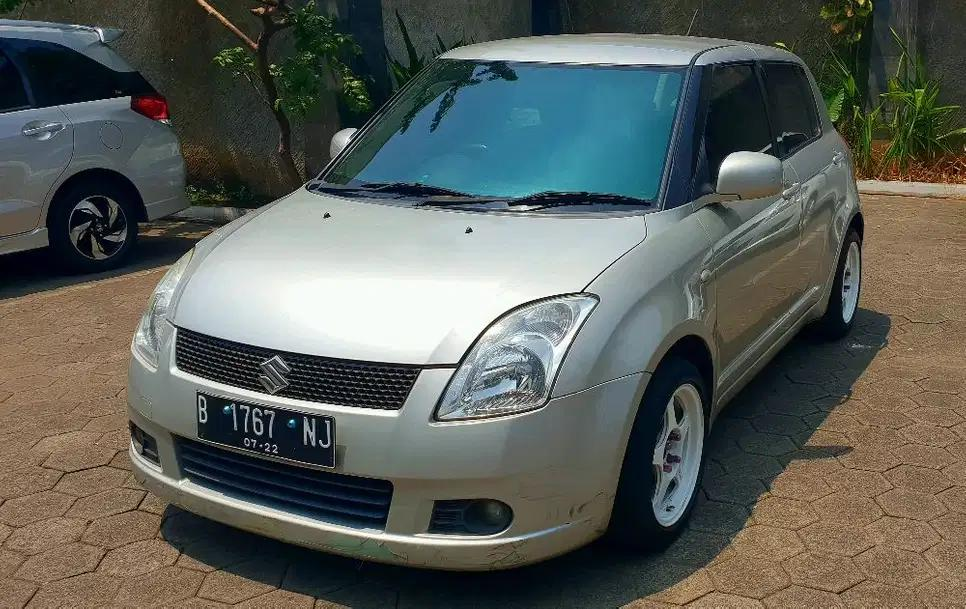plate: (196, 392, 334, 469)
